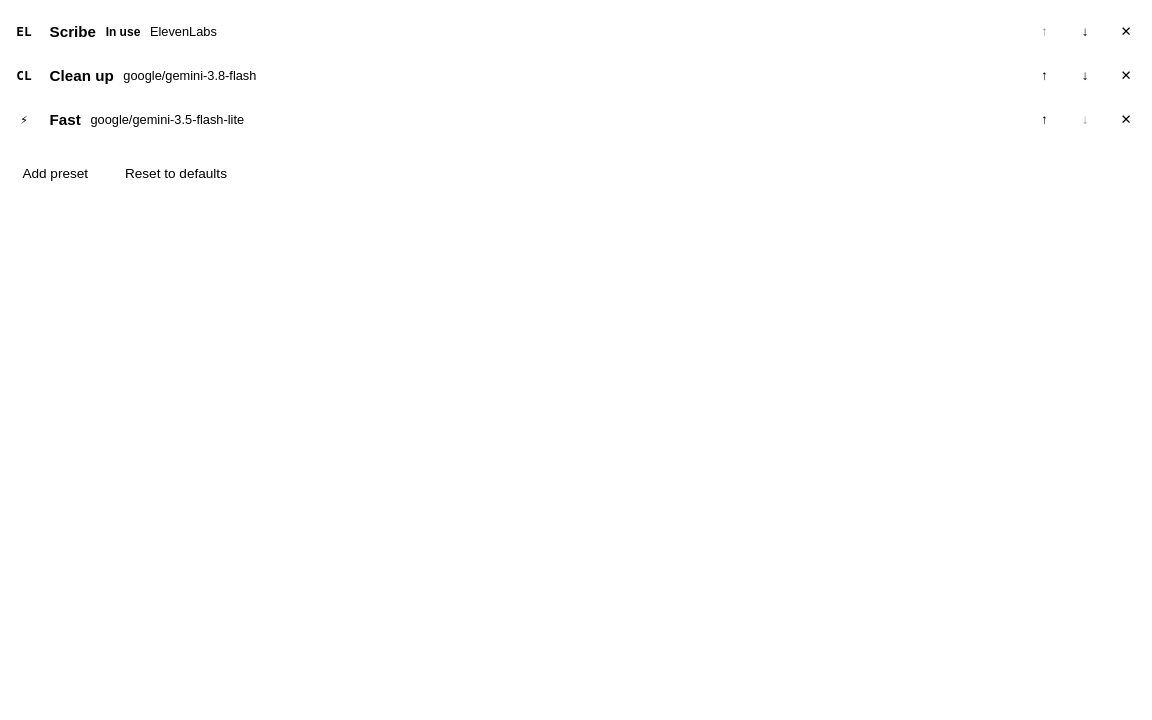
Test: DictationPresets › edits in a modal that Cancel and Escape close without saving
Click the button with aria-label "Edit Clean up". click: (82, 76)
box: [8,54,1022,98]
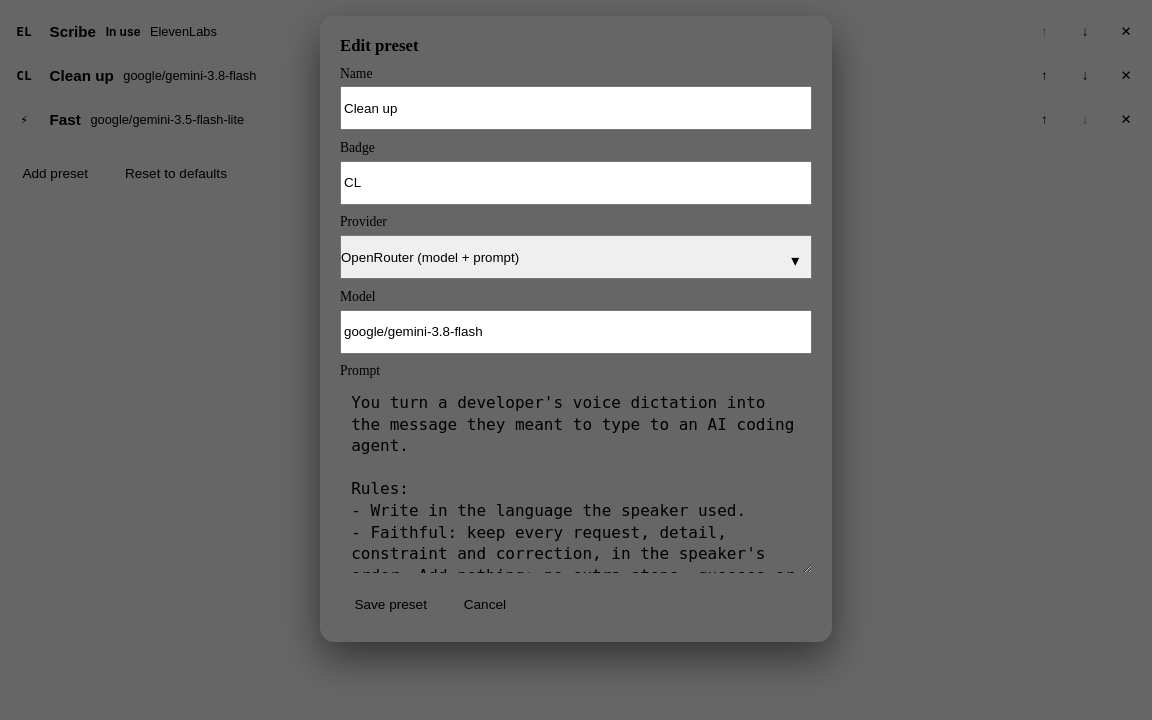
Click the button "Cancel". click: (485, 604)
box: [449,582,520,626]
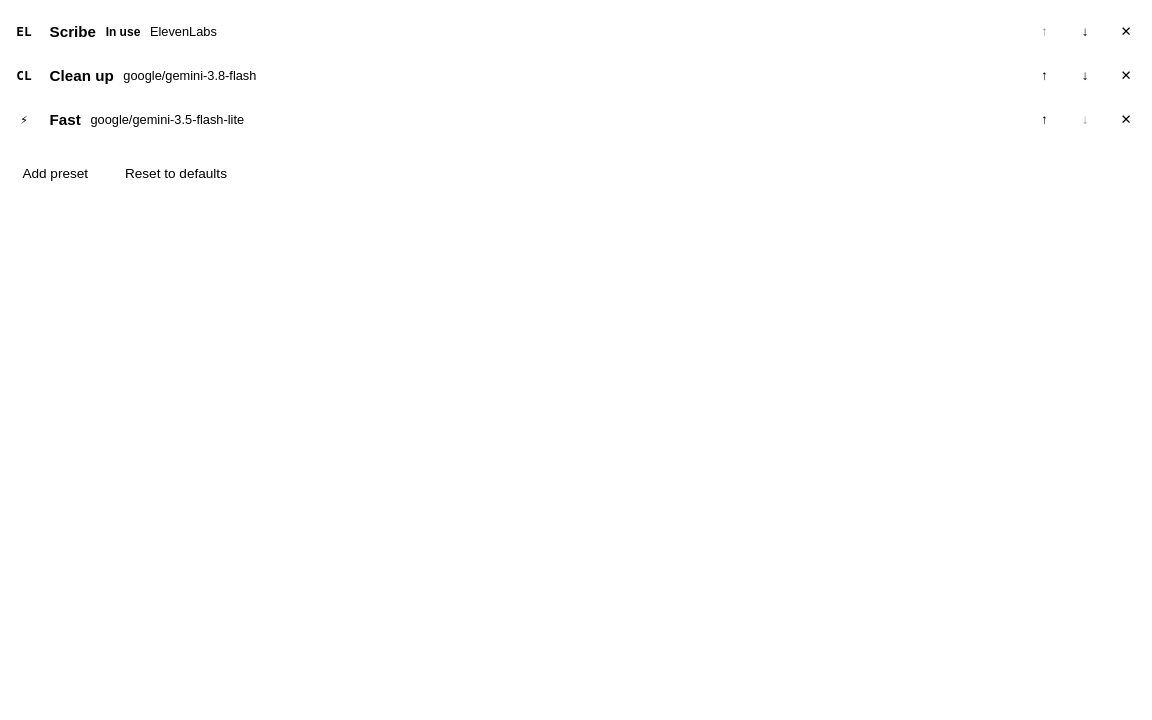
Result: the dialog is gone
Click the button "Add preset". click: (55, 173)
box: [8,151,102,195]
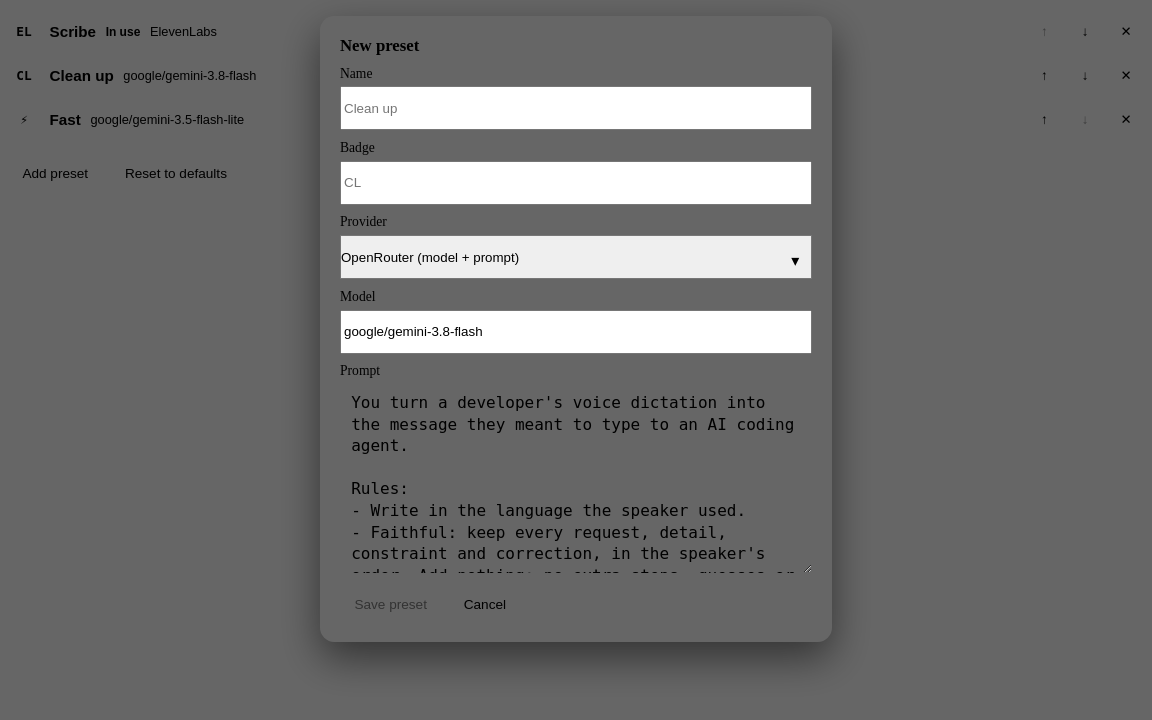
Result: the dialog "New preset" is shown at [320,16,832,642]
Press Escape
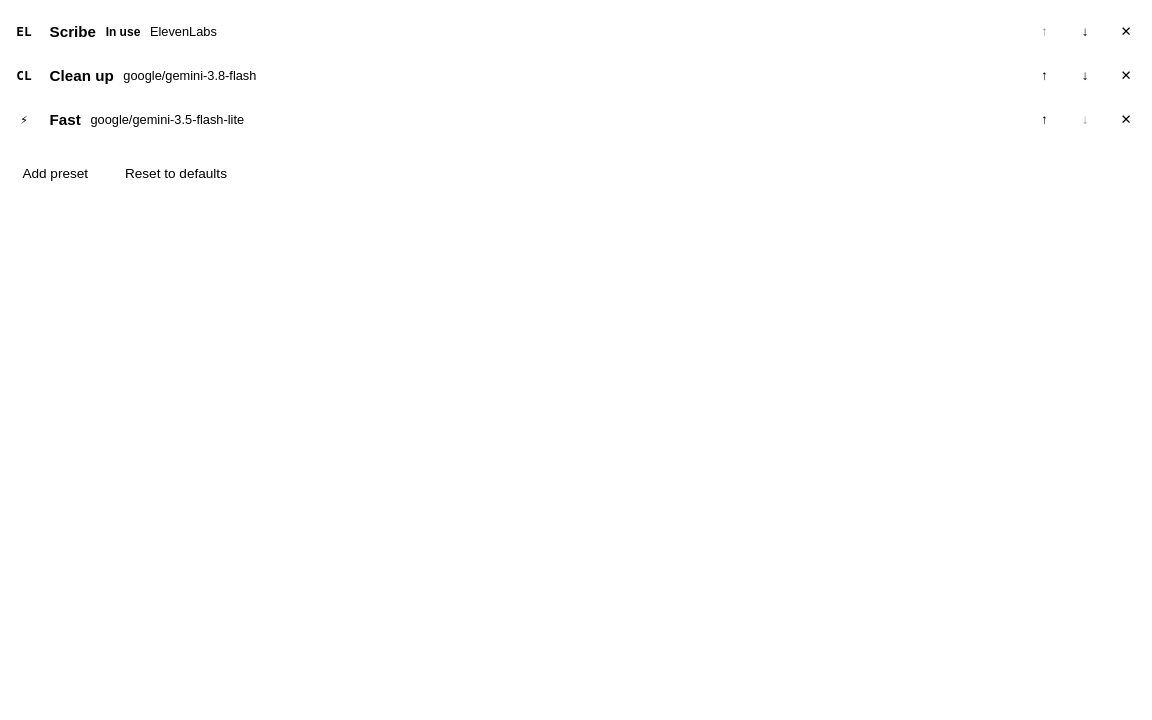
Result: the dialog is gone
